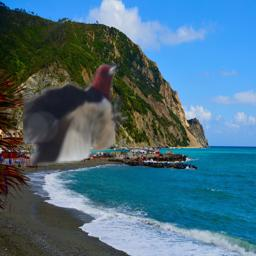Woodpecker: (23, 58, 128, 166)
